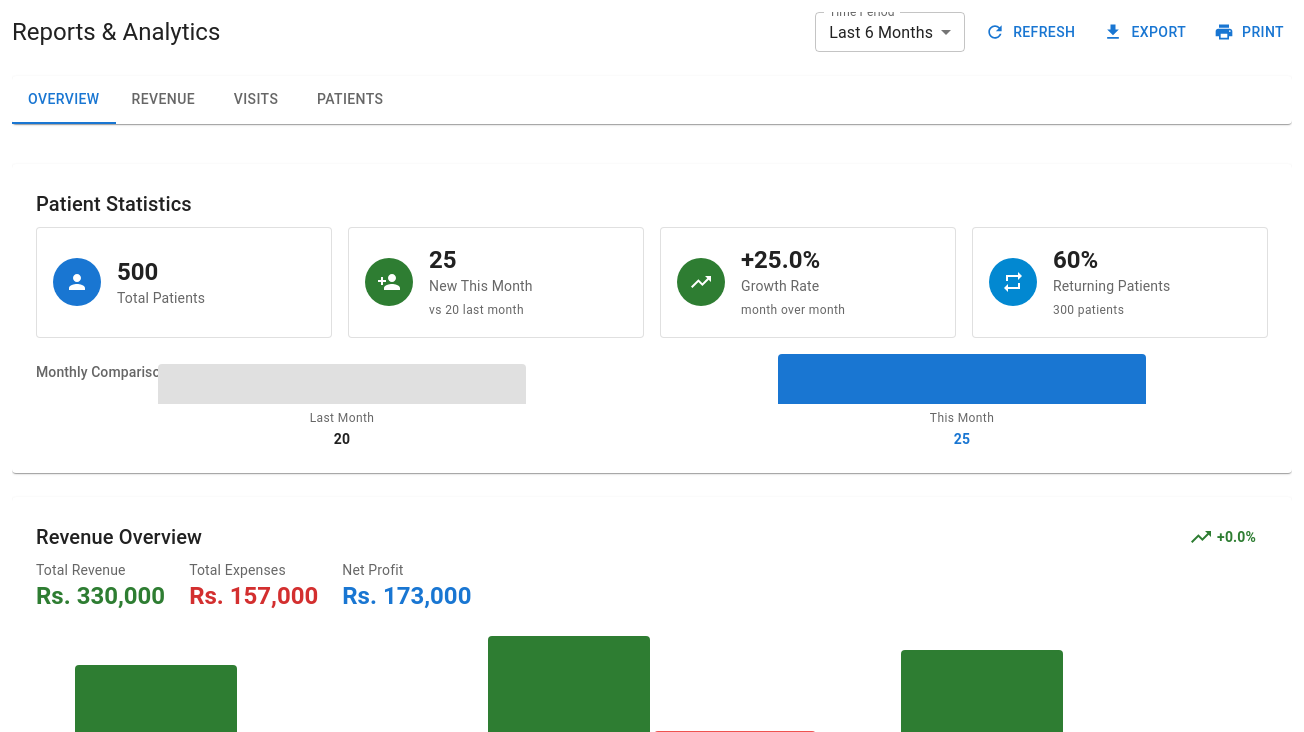
Test: Reports › Tab navigation › switches to Patients tab when clicked
Expected: the heading "Reports & Analytics" is shown, x1=12 y1=16 x2=220 y2=48
Click the tab "Patients": [350, 100] box x1=301 y1=76 x2=399 y2=124
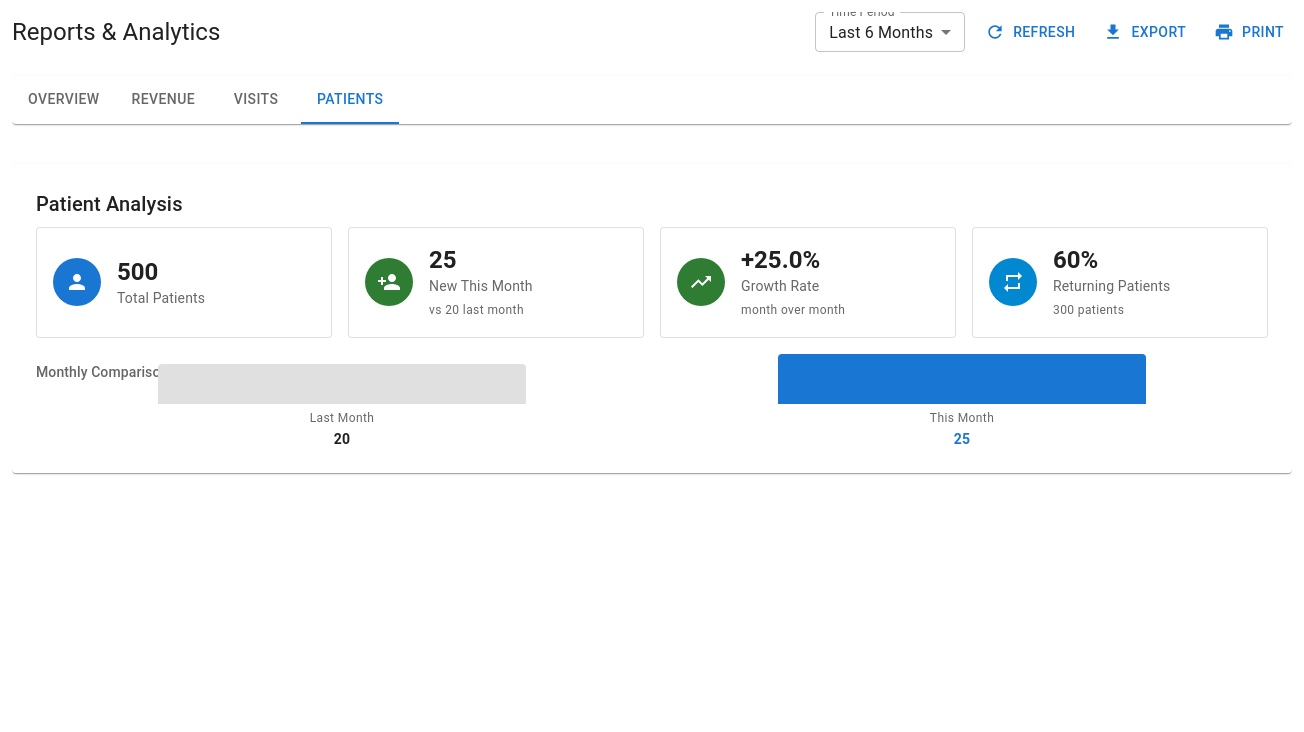
Now the heading "Patient Analysis" is shown, box x1=36 y1=192 x2=183 y2=216
